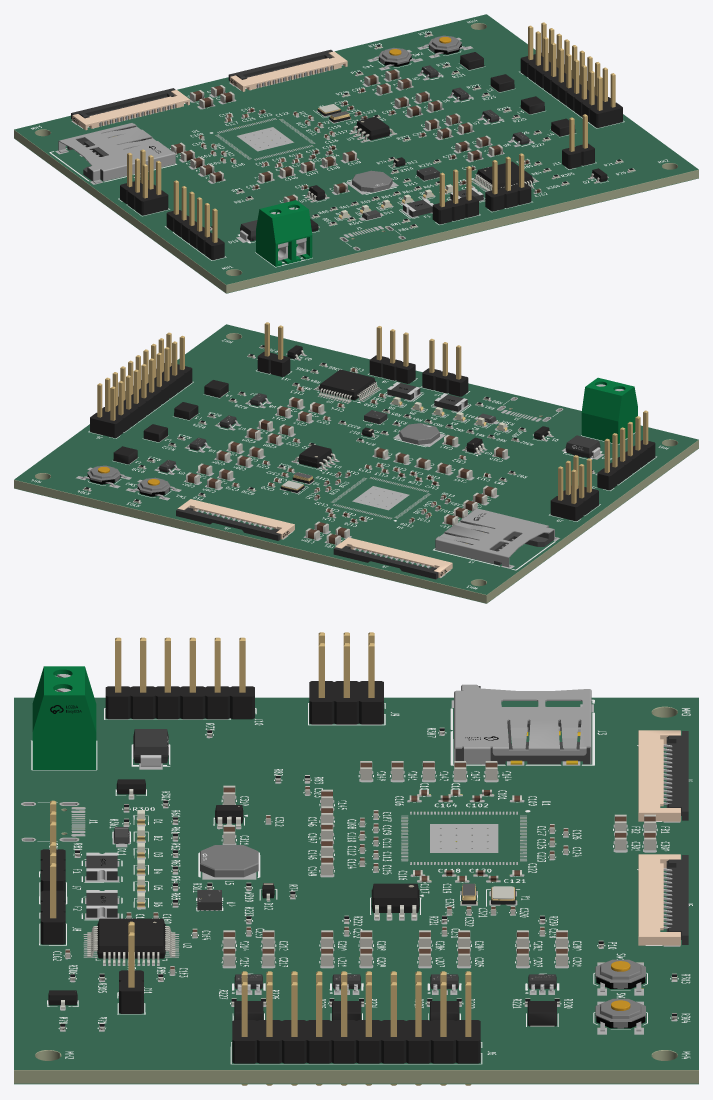
3 renders of one model, top to bottom at view 1: azimuth 30°, elevation 25°; view 2: azimuth 150°, elevation 25°; view 3: azimuth 270°, elevation 25°, orthographic. The views are drawn at different scales.
Parts seen in each view (by area): view 1: =>[0:1:1:67], =>[0:1:1:13], =>[0:1:1:7], =>[0:1:1:3], =>[0:1:1:69], =>[0:1:1:11], =>[0:1:1:21], =>[0:1:1:63], =>[0:1:1:65], =>[0:1:1:17], =>[0:1:1:9], =>[0:1:1:47] (+1 smaller); view 2: =>[0:1:1:67], =>[0:1:1:13], =>[0:1:1:7], =>[0:1:1:3], =>[0:1:1:69], =>[0:1:1:11], =>[0:1:1:63], =>[0:1:1:65], =>[0:1:1:21], =>[0:1:1:17], =>[0:1:1:9], =>[0:1:1:47] (+1 smaller); view 3: =>[0:1:1:67], =>[0:1:1:13], =>[0:1:1:3], =>[0:1:1:11], =>[0:1:1:65], =>[0:1:1:7], =>[0:1:1:69], =>[0:1:1:63], =>[0:1:1:21], =>[0:1:1:17], =>[0:1:1:9], =>[0:1:1:47] (+1 smaller).
Part boxes in pixels (x1,y1,x2,y2): =>[0:1:1:67]: [14, 14, 698, 293]; =>[0:1:1:13]: [120, 52, 622, 259]; =>[0:1:1:7]: [127, 22, 634, 242]; =>[0:1:1:3]: [140, 32, 634, 229]; =>[0:1:1:69]: [14, 23, 698, 293]; =>[0:1:1:11]: [58, 44, 467, 219]; =>[0:1:1:21]: [71, 49, 347, 130]; =>[0:1:1:63]: [55, 34, 635, 250]; =>[0:1:1:65]: [31, 19, 668, 269]; =>[0:1:1:17]: [90, 59, 332, 266]; =>[0:1:1:9]: [71, 51, 529, 241]; =>[0:1:1:47]: [378, 35, 462, 64]; =>[0:1:1:67]: [14, 324, 698, 603]; =>[0:1:1:13]: [90, 345, 655, 520]; =>[0:1:1:7]: [84, 322, 648, 503]; =>[0:1:1:3]: [84, 345, 594, 544]; =>[0:1:1:69]: [14, 333, 698, 603]; =>[0:1:1:11]: [81, 413, 556, 567]; =>[0:1:1:63]: [76, 347, 603, 577]; =>[0:1:1:65]: [31, 339, 668, 589]; =>[0:1:1:21]: [176, 499, 452, 579]; =>[0:1:1:17]: [196, 377, 637, 568]; =>[0:1:1:9]: [159, 383, 600, 579]; =>[0:1:1:47]: [87, 465, 170, 494]; =>[0:1:1:67]: [14, 697, 698, 1084]; =>[0:1:1:13]: [40, 681, 556, 1063]; =>[0:1:1:3]: [60, 727, 676, 1030]; =>[0:1:1:11]: [113, 684, 641, 1031]; =>[0:1:1:65]: [31, 699, 692, 1064]; =>[0:1:1:7]: [50, 632, 514, 1085]; =>[0:1:1:69]: [14, 706, 698, 1083]; =>[0:1:1:63]: [21, 700, 680, 1034]; =>[0:1:1:21]: [638, 730, 688, 945]; =>[0:1:1:17]: [32, 666, 672, 928]; =>[0:1:1:9]: [86, 690, 688, 988]; =>[0:1:1:47]: [595, 959, 645, 1028].
Bounding box in the file's own units: 0.09 × 0.012 × 0.07.
